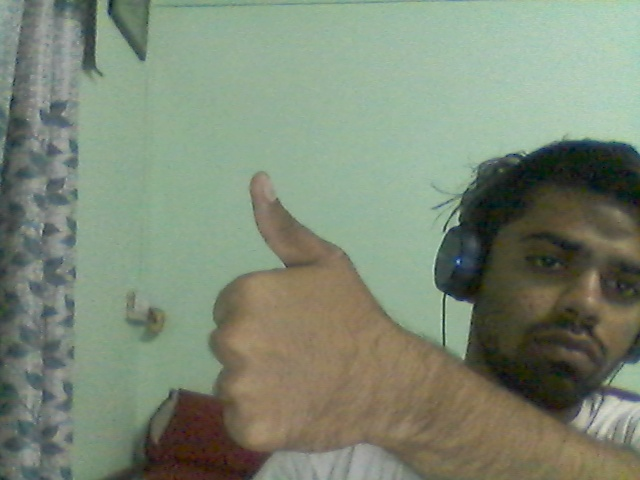Yes: (178, 138, 445, 475)
